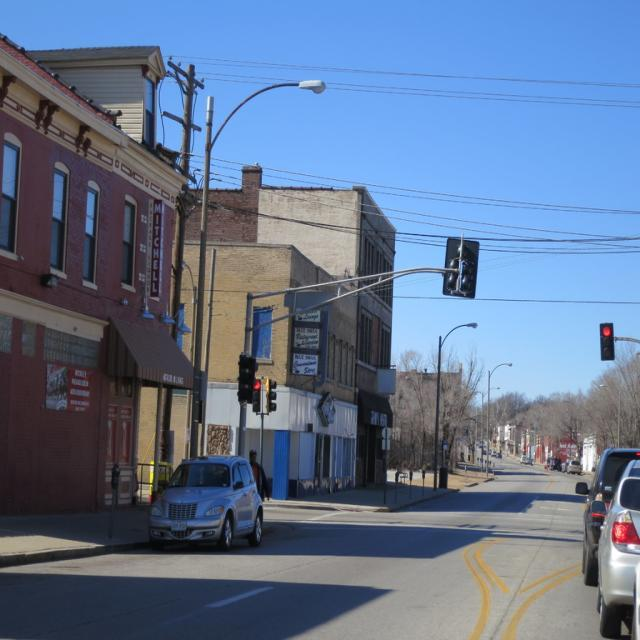traffic light: (599, 323, 615, 361), (252, 379, 261, 412)
